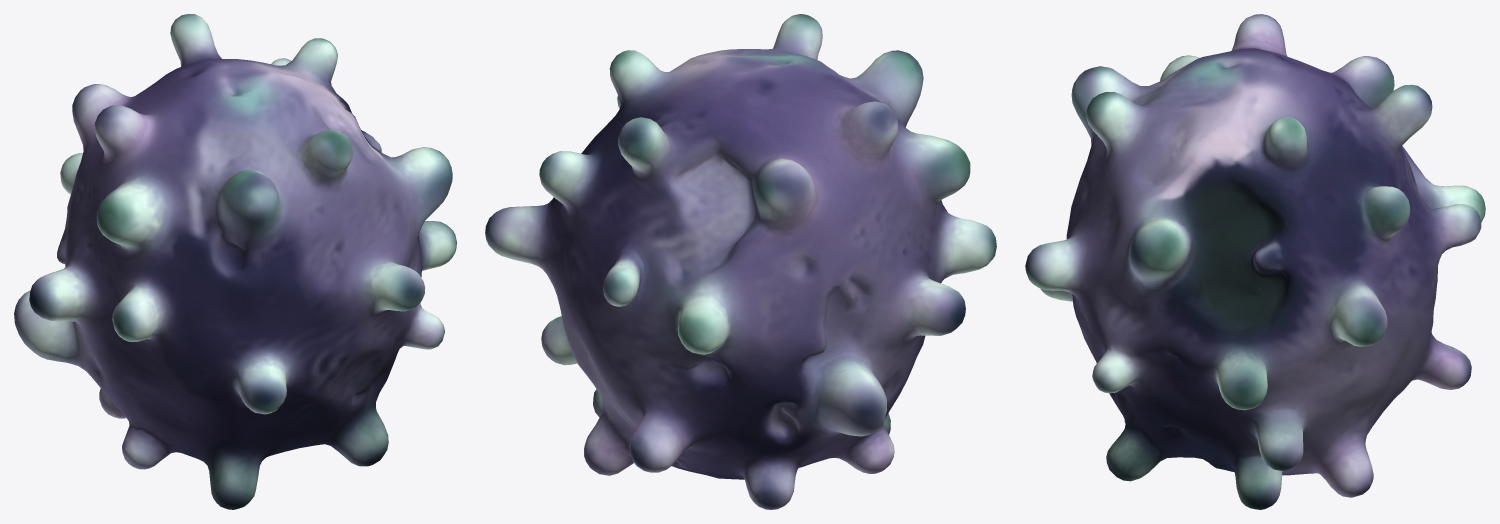
File: macrophage-cell-nexus.glb
3 renders of one model, left to right at view 1: azimuth 30°, elevation 25°; view 2: azimuth 150°, elevation 25°; view 3: azimuth 270°, elevation 25°, orthographic. The views are drawn at different scales.
Visible parts, largest first — view 1: world; view 2: world; view 3: world.
Part boxes in pixels (x1,y1,x2,y2): world: [14, 14, 456, 509]; world: [485, 14, 996, 509]; world: [1025, 14, 1485, 509].
Bounding box in the file's own units: 1 × 0.8899 × 0.9346.
Materials: 1 (1 with a texture image).
